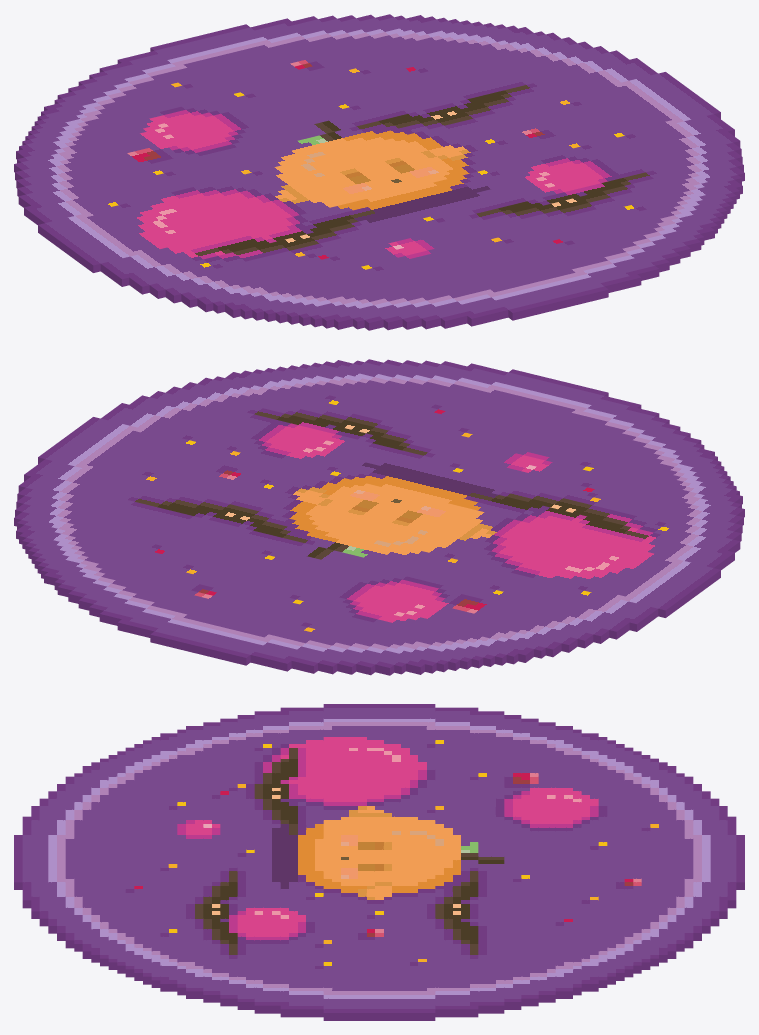
Rendered from 万圣节地毯.gltf.
3 renders of one model, top to bottom at view 1: azimuth 30°, elevation 25°; view 2: azimuth 150°, elevation 25°; view 3: azimuth 270°, elevation 25°, orthographic.
Parts seen in each view (by area): view 1: Object; view 2: Object; view 3: Object.
Boxes of the visible parts, box(x1,y1,x2,y2) form: Object: box(14, 14, 744, 330); Object: box(14, 359, 744, 675); Object: box(14, 704, 744, 1020).
Size of the model in its own units: 85 by 1 by 85.
Materials: 1 (1 with a texture image).
